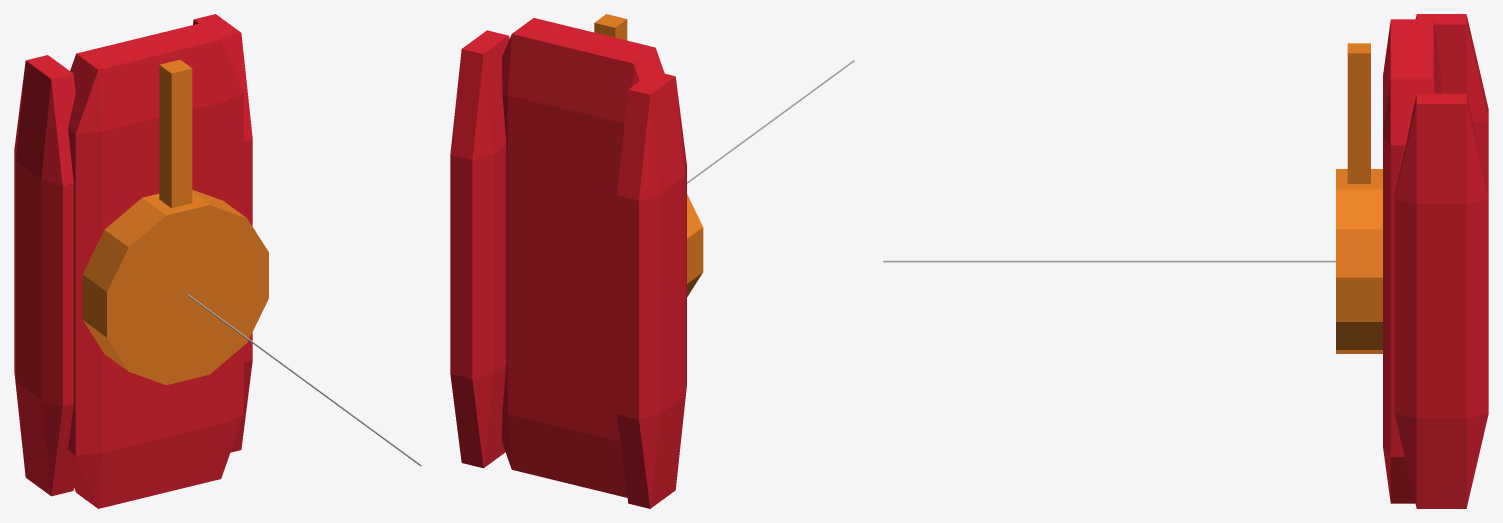
The model's file is tank.obj.
3 views of the same model, side by side, from view 1: azimuth 30°, elevation 25°; view 2: azimuth 150°, elevation 25°; view 3: azimuth 270°, elevation 25° (orthographic). The views are drawn at different scales.
Visible parts, largest first — view 1: obj_0, obj_1, obj_3, obj_2, obj_4; view 2: obj_0, obj_3, obj_2, obj_1, obj_4; view 3: obj_2, obj_1, obj_0, obj_3, obj_4.
Part boxes in pixels (box(x1,y1,x2,y2)): obj_0: box(68, 23, 243, 508); obj_1: box(82, 59, 268, 385); obj_3: box(14, 55, 75, 496); obj_2: box(193, 14, 252, 452); obj_4: box(187, 294, 421, 466); obj_0: box(502, 18, 664, 497); obj_3: box(617, 71, 686, 508); obj_2: box(450, 30, 509, 468); obj_1: box(594, 14, 703, 296); obj_4: box(687, 60, 854, 183); obj_2: box(1394, 93, 1488, 508); obj_1: box(1336, 43, 1382, 353); obj_0: box(1383, 19, 1441, 503); obj_3: box(1415, 14, 1488, 187); obj_4: box(883, 260, 1335, 262).
Size of the model in its own units: 20 by 40 by 51.49.
